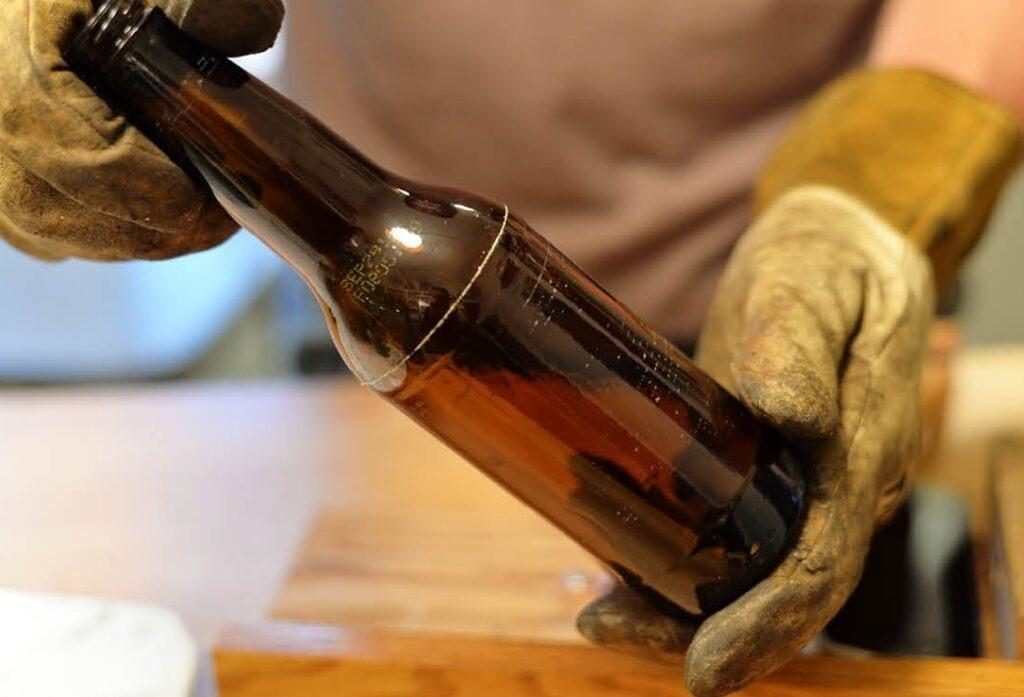glass: (65, 0, 814, 622)
